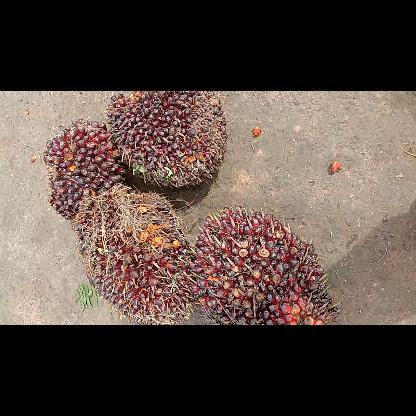Kurang masak: (180, 204, 340, 324), (73, 182, 196, 324), (105, 90, 228, 188), (43, 119, 127, 218)
